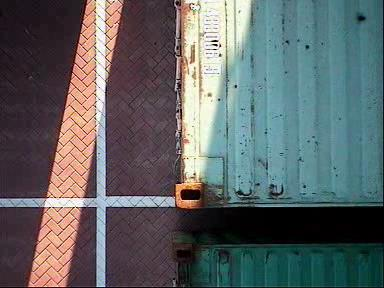groundmarker_2: (194, 4, 250, 113)
